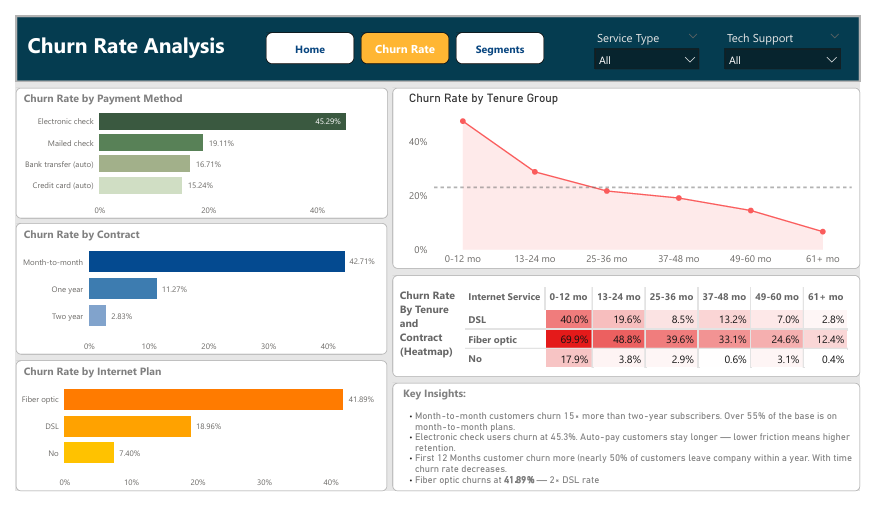

The page's visual inventory and layout, read from the dashboard file:
{"tool":"powerbi","page":{"name":"Churn Rate","canvas":[1280,720],"ordinal":1},"visuals":[{"type":"shape","box":[0,0,1280,720],"z":0},{"type":"shape","box":[571.4,392.9,708.6,154.3],"z":1000},{"type":"shape","box":[571.4,108.6,708.6,274.3],"z":2000},{"type":"shape","box":[0,108.7,564.2,198.4],"z":3000},{"type":"shape","box":[0,521.6,562.8,198.4],"z":4000},{"type":"shape","box":[0,314.4,562.8,198.4],"z":5000},{"type":"areaChart","fields":{"Category":["churn_data.TenureGroup"],"Y":["churn_data.Churn Rate"]},"box":[590.7,108.7,681.8,274.8],"z":6000},{"type":"shape","box":[0,0,1279.8,99.9],"z":7000},{"type":"barChart","fields":{"Y":["churn_data.Churn Rate"],"Category":["churn_data.Contract"]},"box":[0,330,562.9,182.9],"z":8000},{"type":"barChart","fields":{"Y":["churn_data.Churn Rate"],"Category":["churn_data.InternetService"]},"box":[0,538.6,562.9,181.4],"z":9000},{"type":"clusteredBarChart","fields":{"Y":["churn_data.Churn Rate"],"Category":["churn_data.PaymentMethod"]},"box":[0,127.1,562.9,180],"z":10000},{"type":"pivotTable","fields":{"Columns":["churn_data.TenureGroup"],"Values":["churn_data.Churn Rate"],"Rows":["churn_data.InternetService"]},"box":[675.9,405.6,592.2,132.2],"z":11000},{"type":"textbox","box":[7.3,314.4,459.9,30.9],"z":12000},{"type":"textbox","box":[7.3,108.7,433.5,38.2],"z":13000},{"type":"textbox","box":[7.3,521.6,474.6,33.8],"z":14000},{"type":"textbox","box":[577.5,407,98.4,114.6],"z":15000},{"type":"shape","box":[571.4,555.7,708.6,164.3],"z":16000},{"type":"textbox","box":[581.9,555.4,698,164.6],"z":17000},{"type":"textbox","box":[8.8,17.6,326.2,64.7],"z":18000},{"type":"pageNavigator","box":[379.1,25,421.7,48.5],"z":19000},{"type":"slicer","fields":{"Values":["churn_data.InternetService"]},"box":[868.4,14.7,177.8,77.9],"z":20000},{"type":"slicer","fields":{"Values":["churn_data.TechSupport"]},"box":[1065.3,14.7,195.4,77.9],"z":21000}]}

Visuals, with their boxes in screenshot pixels (x1, y1, x2, y2), scaled from the page's 1280x720 canvas onto the 877x507 screenshot:
shape: left=0, top=0, right=876, bottom=506
shape: left=391, top=277, right=876, bottom=385
shape: left=391, top=76, right=876, bottom=270
shape: left=0, top=77, right=387, bottom=216
shape: left=0, top=367, right=386, bottom=506
shape: left=0, top=221, right=386, bottom=361
areaChart - churn_data.TenureGroup x churn_data.Churn Rate: left=405, top=77, right=872, bottom=270
shape: left=0, top=0, right=876, bottom=70
barChart - churn_data.Churn Rate x churn_data.Contract: left=0, top=232, right=386, bottom=361
barChart - churn_data.Churn Rate x churn_data.InternetService: left=0, top=379, right=386, bottom=506
clusteredBarChart - churn_data.Churn Rate x churn_data.PaymentMethod: left=0, top=89, right=386, bottom=216
pivotTable - churn_data.TenureGroup x churn_data.Churn Rate: left=463, top=286, right=869, bottom=379
textbox: left=5, top=221, right=320, bottom=243
textbox: left=5, top=77, right=302, bottom=103
textbox: left=5, top=367, right=330, bottom=391
textbox: left=396, top=287, right=463, bottom=367
shape: left=391, top=391, right=876, bottom=506
textbox: left=399, top=391, right=876, bottom=506
textbox: left=6, top=12, right=230, bottom=58
pageNavigator: left=260, top=18, right=549, bottom=52
slicer - churn_data.InternetService: left=595, top=10, right=717, bottom=65
slicer - churn_data.TechSupport: left=730, top=10, right=864, bottom=65
